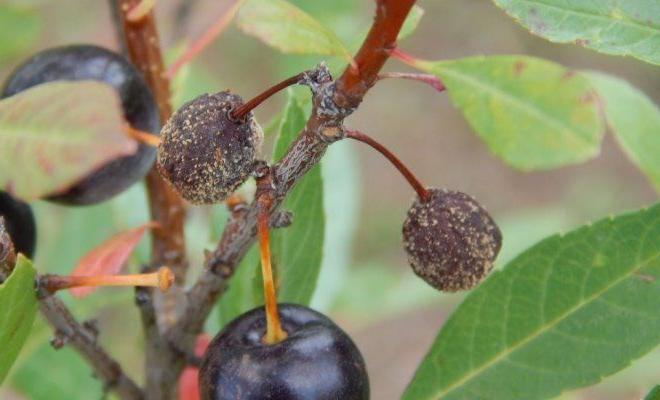mummified_fruits: (157, 91, 262, 203), (403, 189, 501, 291)
